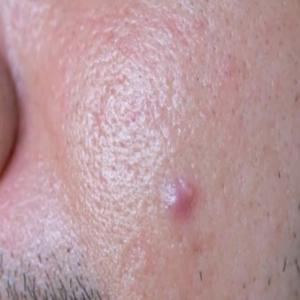Oily-Skin: (7, 25, 165, 233)
